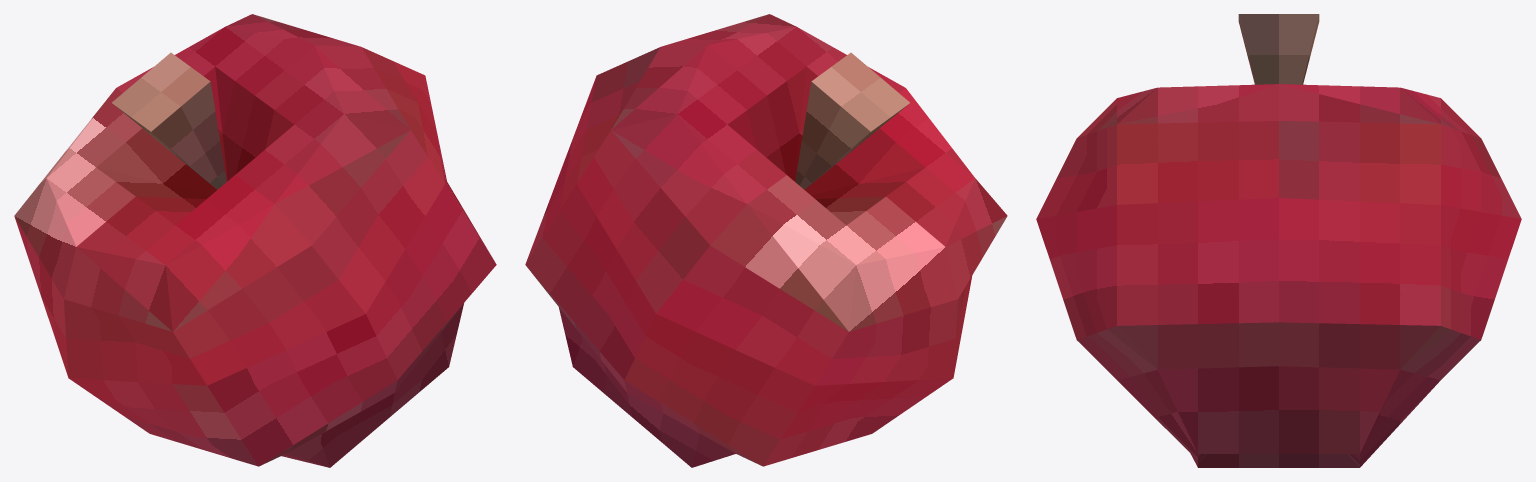
Rendered from apple.glb.
3 views of the same model, side by side, from view 1: azimuth 30°, elevation 25°; view 2: azimuth 150°, elevation 25°; view 3: azimuth 270°, elevation 25° (orthographic). The views are drawn at different scales.
Visible parts, largest first — view 1: appleMesh; view 2: appleMesh; view 3: appleMesh.
Part boxes in pixels (<box>): appleMesh: <box>14,14,496,467</box>; appleMesh: <box>525,14,1007,467</box>; appleMesh: <box>1036,14,1521,467</box>.
Bounding box in the file's own units: 0.7812 × 0.7718 × 0.84.
1 material, 1 textured.
